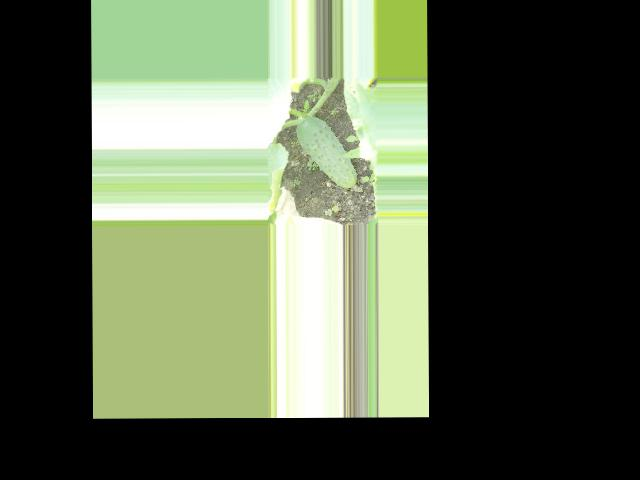cucumber: (296, 115, 357, 188)
